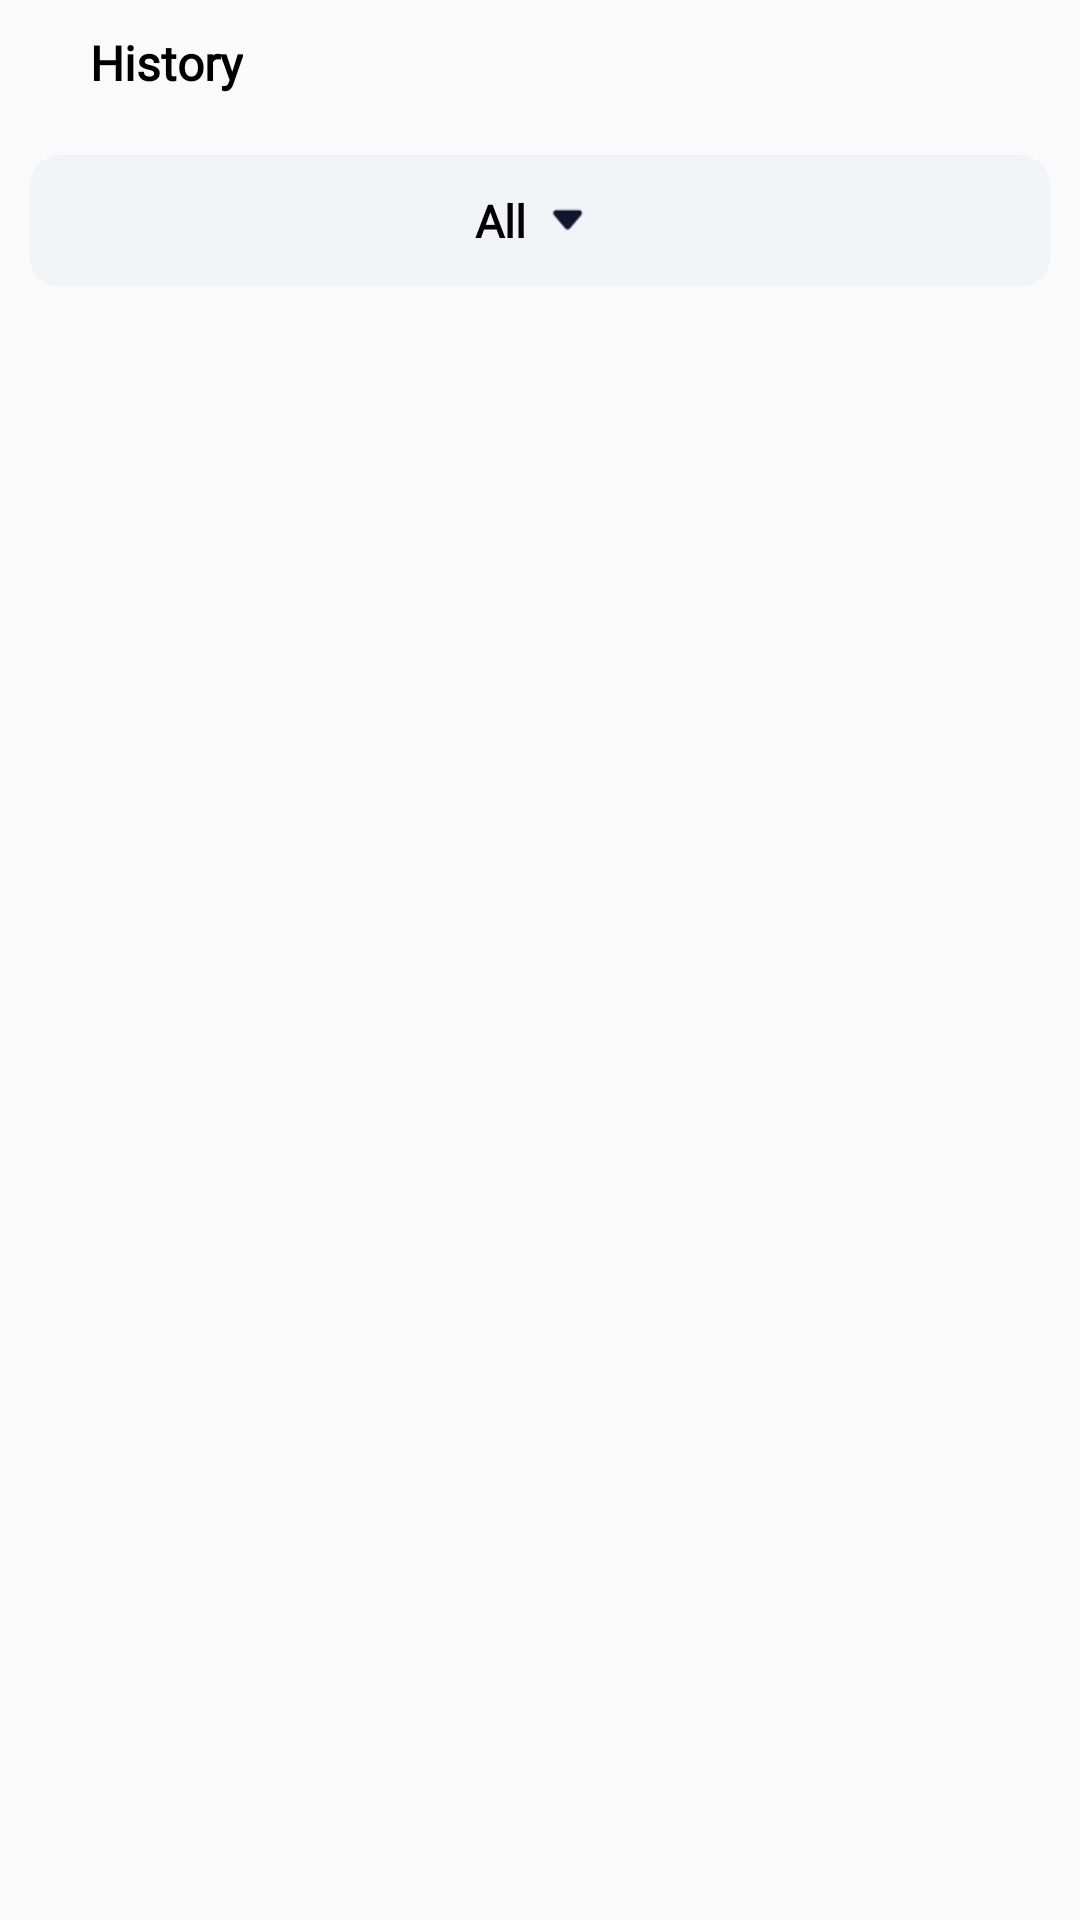

Point at icon controls on the screen. Image size 1080x1920, points as [x,y].
down: [567,219]
